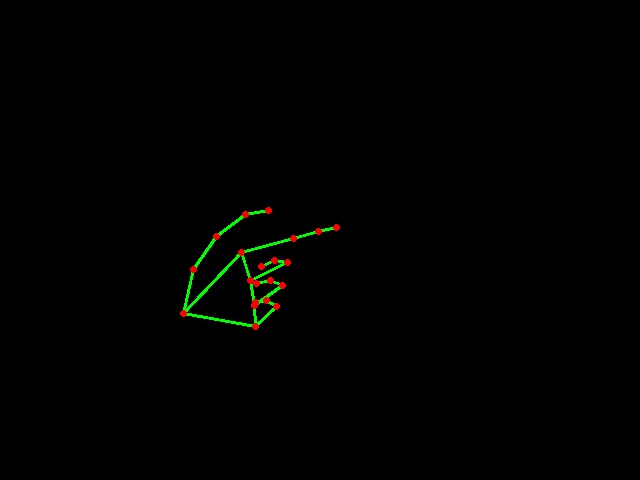left: (176, 190, 347, 334)
